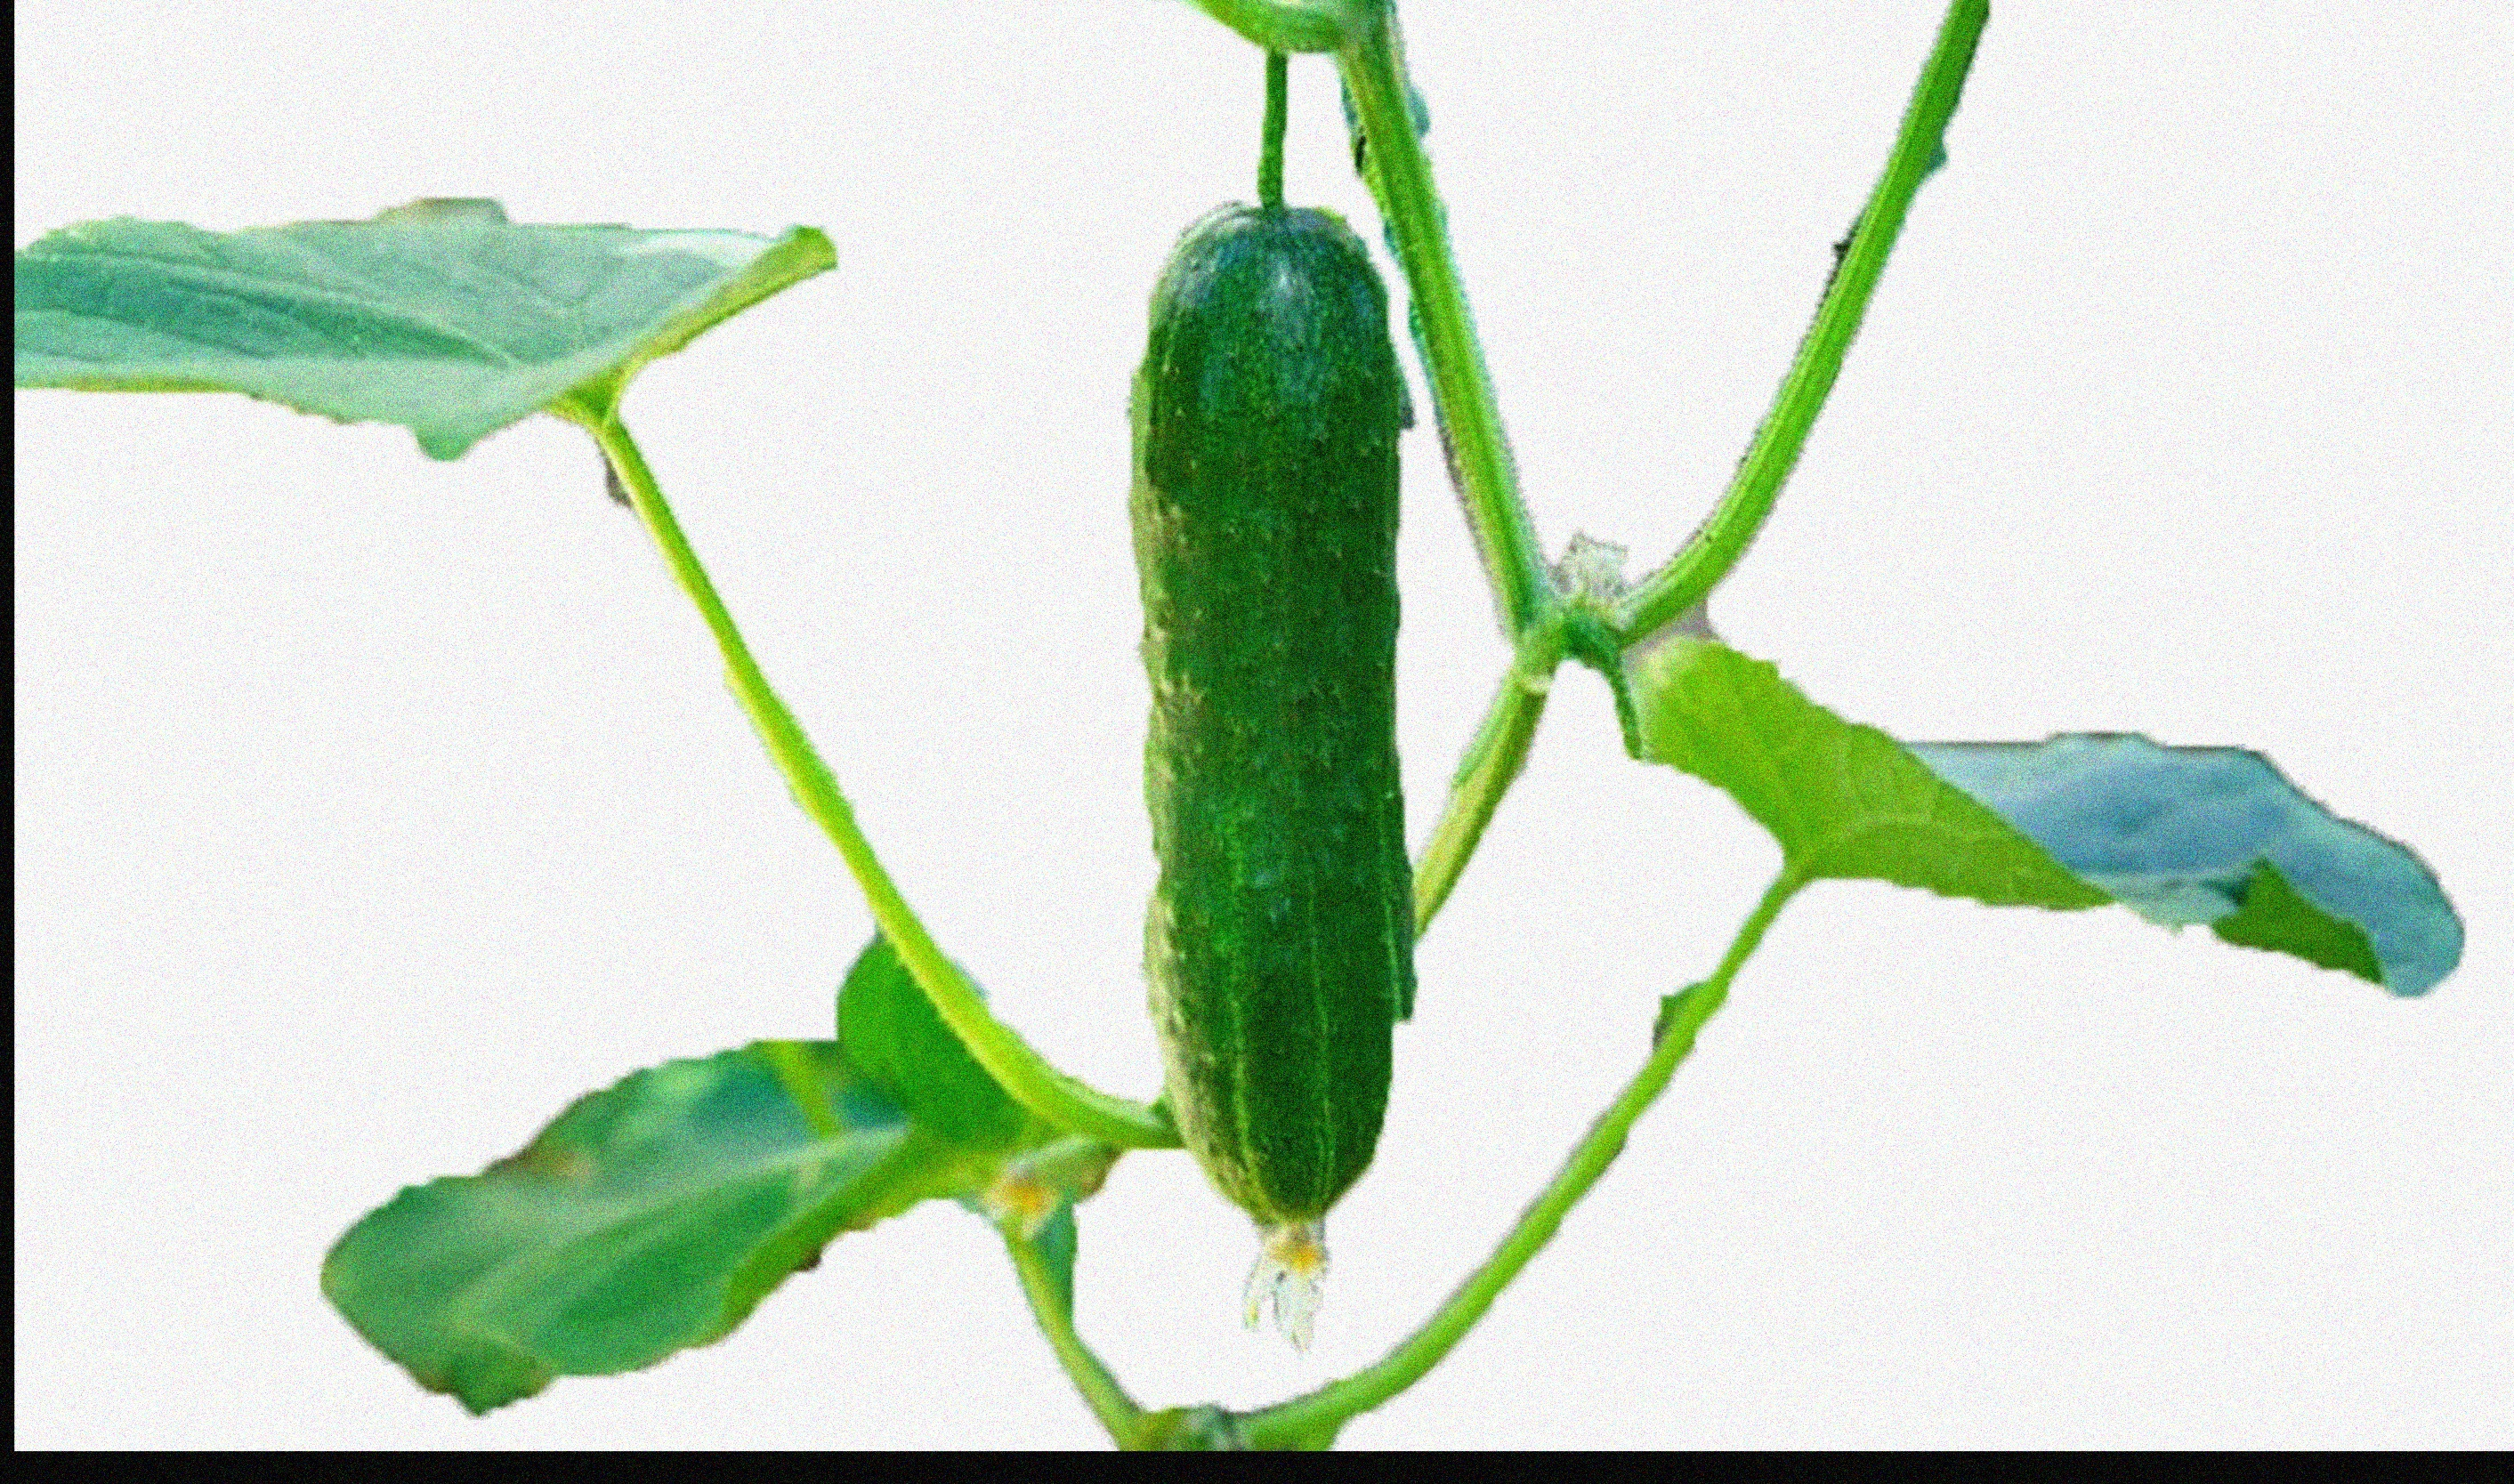corn_plant: (34, 196, 1118, 1447)
cucumber: (1115, 133, 1427, 1256)
cucumber_plant: (1452, 647, 2472, 1392)
